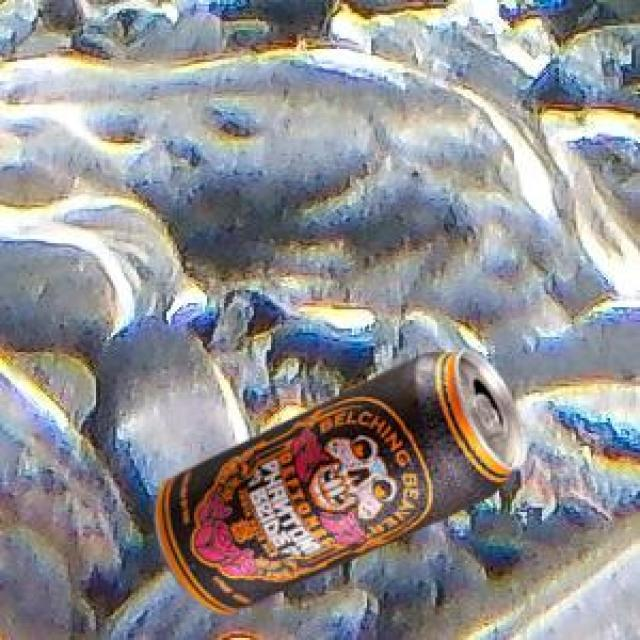Can: (153, 347, 524, 611)
